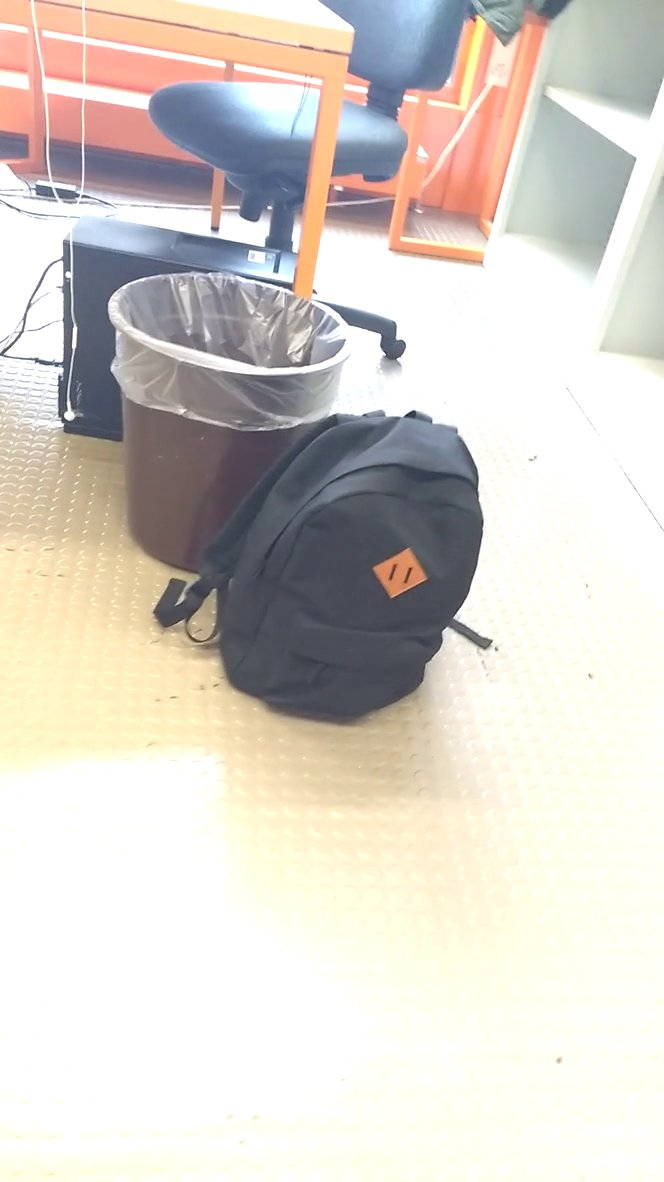bag: (151, 405, 496, 733)
bin: (102, 264, 343, 585)
chair: (149, 1, 471, 348)
